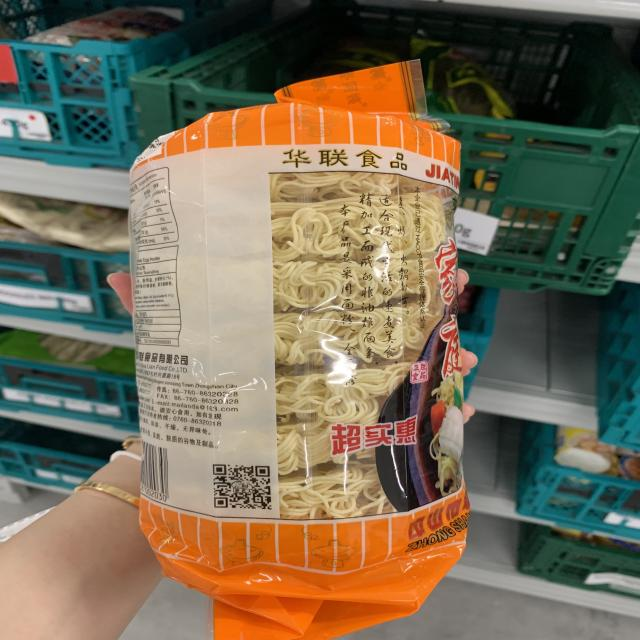object_name: (142, 127, 463, 586)
